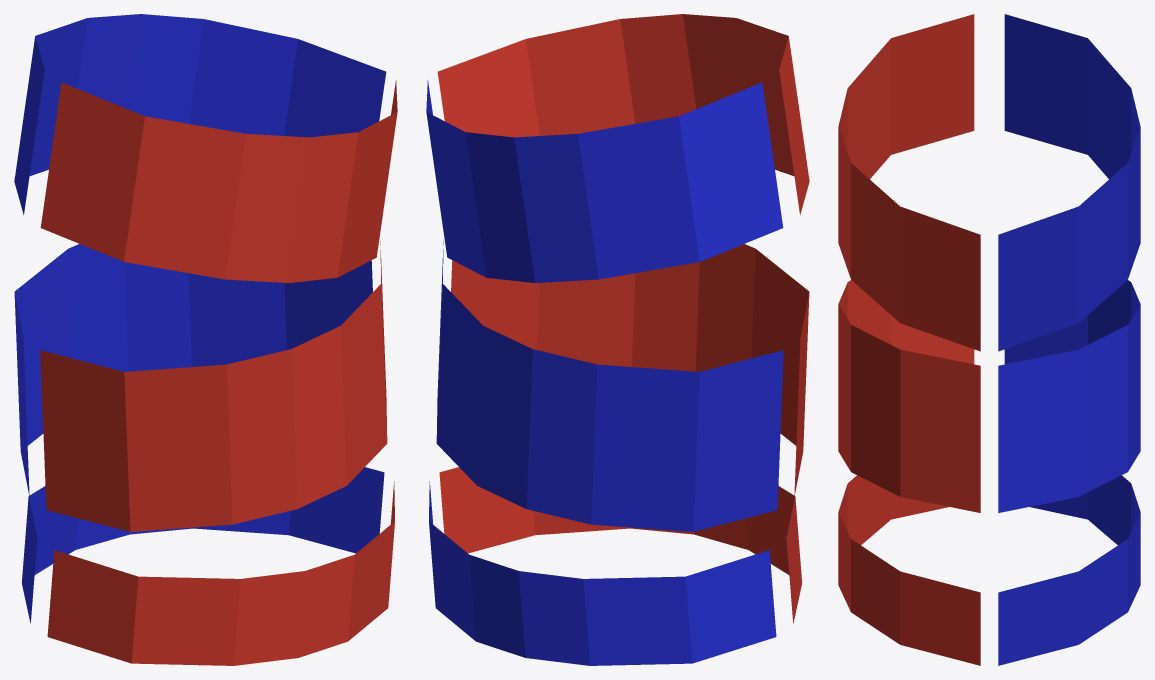
The model's file is CurveTransform.fbx.
3 renders of one model, left to right at view 1: azimuth 30°, elevation 25°; view 2: azimuth 150°, elevation 25°; view 3: azimuth 270°, elevation 25°, orthographic. The views are drawn at different scales.
Parts seen in each view (by area): view 1: Plane, Plane.001; view 2: Plane.001, Plane; view 3: Plane, Plane.001.
Boxes of the visible parts, <box> form: Plane: <box>40,80,397,665</box>; Plane.001: <box>14,14,386,623</box>; Plane.001: <box>426,80,783,665</box>; Plane: <box>437,14,809,623</box>; Plane: <box>838,14,980,665</box>; Plane.001: <box>998,14,1140,665</box>.
Size of the model in its own units: 35.38 by 53.35 by 28.76.
